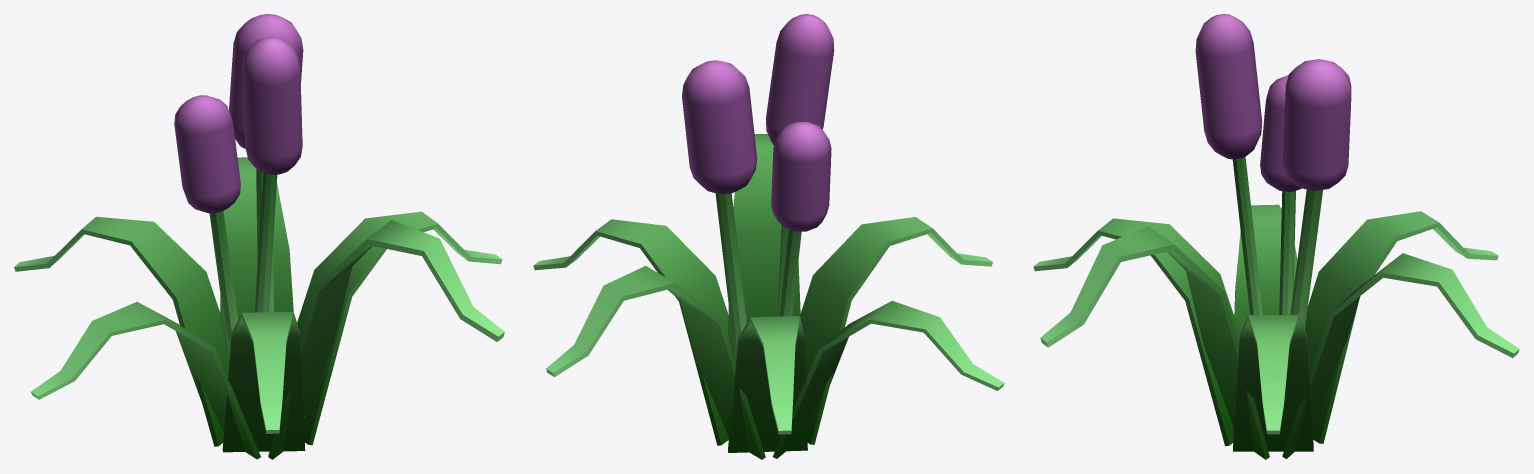
Rendered from Plant01_Purple.fbx.
3 views of the same model, side by side, from view 1: azimuth 30°, elevation 25°; view 2: azimuth 150°, elevation 25°; view 3: azimuth 270°, elevation 25° (orthographic). The views are drawn at different scales.
Visible parts, largest first — view 1: Plane.001, Plane.008, Plane.004, pSphere2, Plane.005, pSphere1, Plane.006, Plane.007, pSphere3, Cylinder.017, Cylinder.016, Cylinder.015; view 2: Plane.004, pSphere3, Plane.006, Plane.001, Plane.008, pSphere2, Plane.007, pSphere1, Plane.005, Cylinder.015, Cylinder.016; view 3: Plane.007, Plane.008, pSphere3, Plane.004, pSphere2, Plane.006, Plane.001, Plane.005, pSphere1, Cylinder.015, Cylinder.017, Cylinder.016.
Boxes of the visible parts, x1,y1,x2,y2 form: Plane.001: (222,312,305,452); Plane.008: (268,220,504,459); Plane.004: (14,216,229,446); pSphere2: (242,36,302,175); Plane.005: (31,301,260,459); pSphere1: (174,95,240,213); Plane.006: (220,157,293,359); Plane.007: (297,211,502,445); pSphere3: (229,14,303,148); Cylinder.017: (254,173,277,312); Cylinder.016: (209,211,237,359); Cylinder.015: (256,168,273,312); Plane.004: (728,316,807,452); pSphere3: (682,60,757,194); Plane.006: (546,266,765,459); Plane.001: (800,217,992,444); Plane.008: (728,134,800,359); pSphere2: (766,14,834,145); Plane.007: (533,219,730,445); pSphere1: (771,122,831,231); Plane.005: (772,300,1004,458); Cylinder.015: (715,193,746,361); Cylinder.016: (779,229,801,316); Plane.007: (1233,315,1313,451); Plane.008: (1040,226,1269,459); pSphere3: (1282,59,1351,190); Plane.004: (1305,211,1498,443); pSphere2: (1195,14,1262,159); Plane.006: (1282,253,1519,458); Plane.001: (1033,218,1239,446); Plane.005: (1234,204,1297,333); pSphere1: (1260,75,1301,191); Cylinder.015: (1290,189,1322,329); Cylinder.017: (1232,156,1263,314); Cylinder.016: (1279,191,1295,314).
Bounding box in the file's own units: 46.2 × 39.31 × 41.9.
